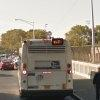Bus: (14, 34, 78, 96)
